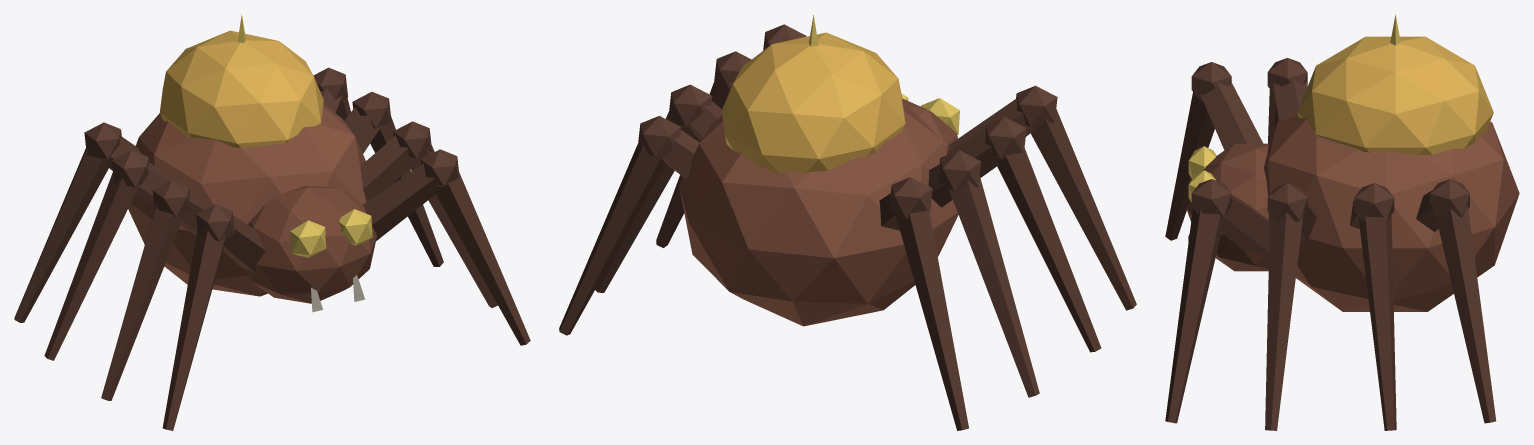
File: enemy_blastbug.glb
The picture shows the model from 3 angles, left to right: view 1: azimuth 30°, elevation 25°; view 2: azimuth 150°, elevation 25°; view 3: azimuth 270°, elevation 25°; orthographic projection. The views are drawn at different scales.
Parts seen in each view (by area): view 1: enemy_blastbug; view 2: enemy_blastbug; view 3: enemy_blastbug.
Boxes of the visible parts, <box> form: enemy_blastbug: <box>14,14,530,430</box>; enemy_blastbug: <box>559,15,1136,430</box>; enemy_blastbug: <box>1165,15,1519,430</box>.
Bounding box in the file's own units: 1.52 × 1.08 × 1.1.
